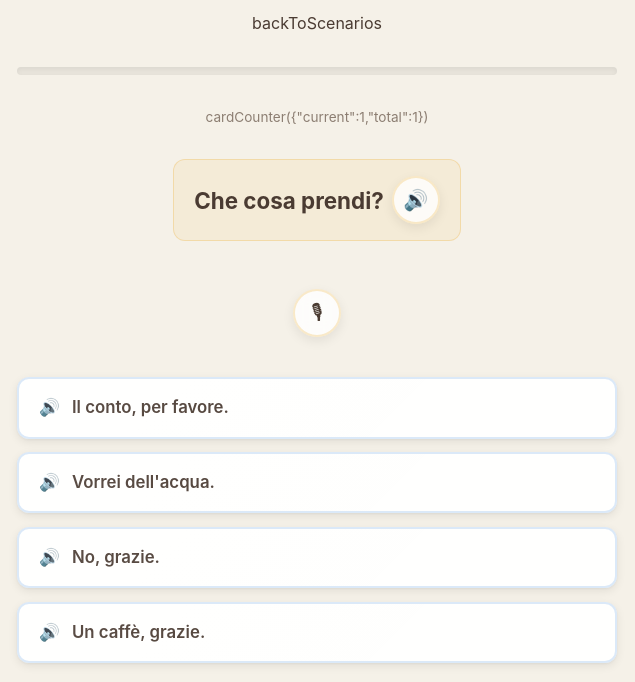
Test: QAStudySession › shows allScenariosDone screen after last card when all scenarios are empty
Click the button "🔊 Un caffè, grazie.".
click(139, 632)  # box [17,602,617,663]
Wait 600 ms
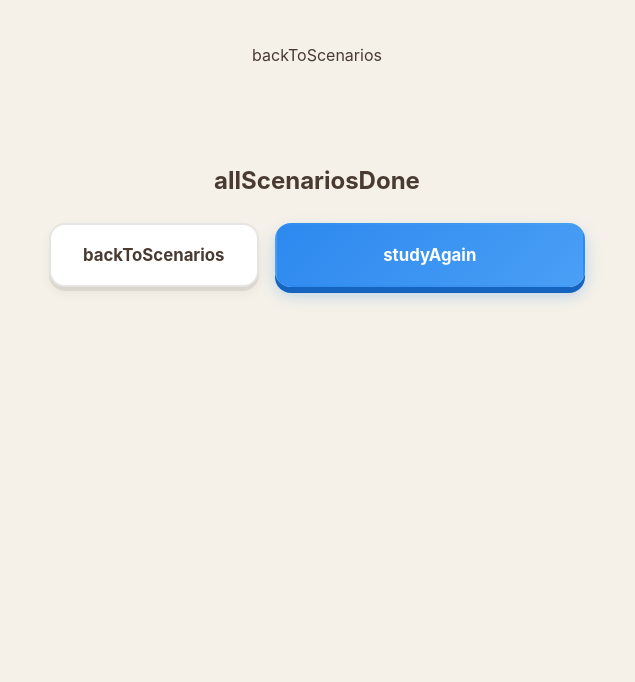
Expected: the text "allScenariosDone" is shown, [214,166,420,195]
